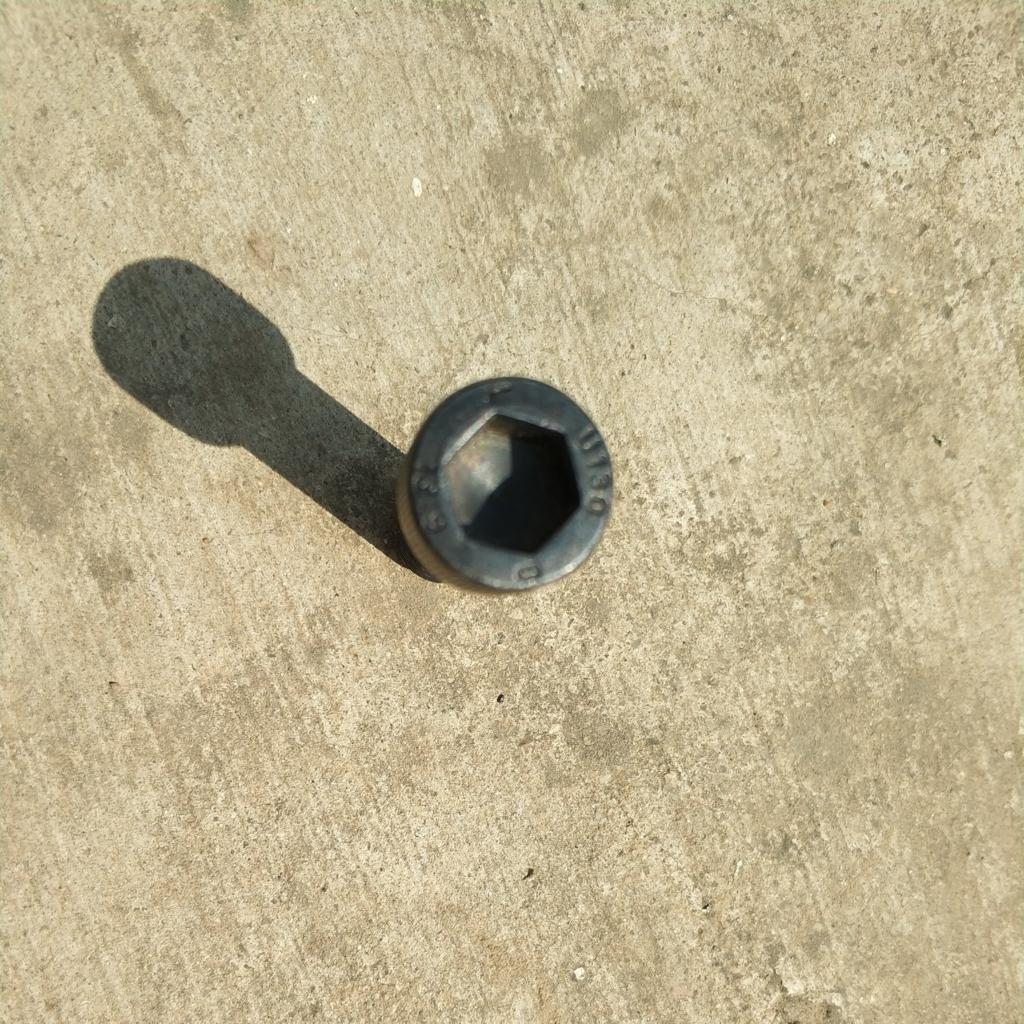screwtype1black: (371, 368, 626, 611)
